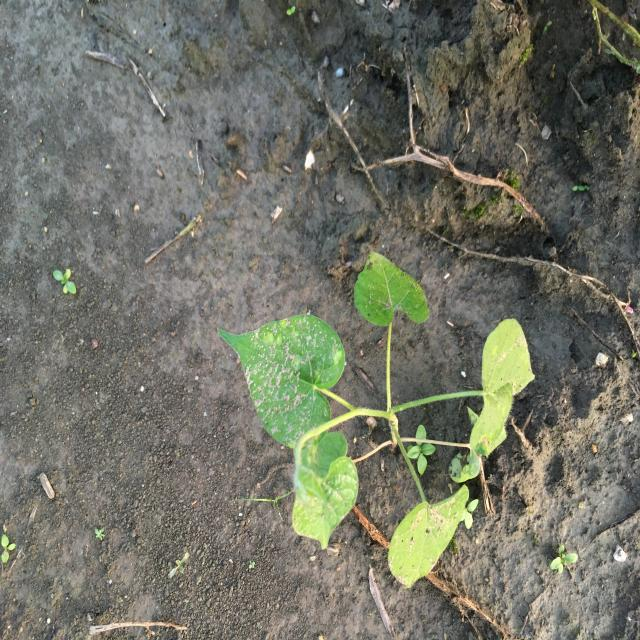MorningGlory: (215, 248, 536, 592)
